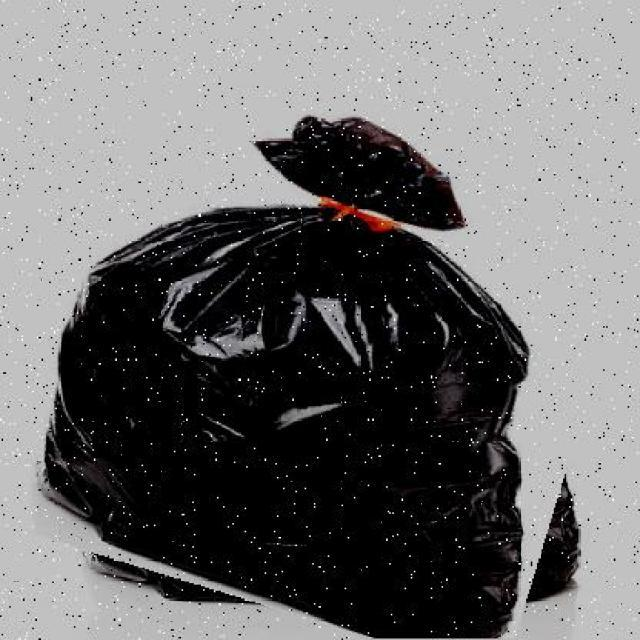waste: (31, 71, 620, 638)
